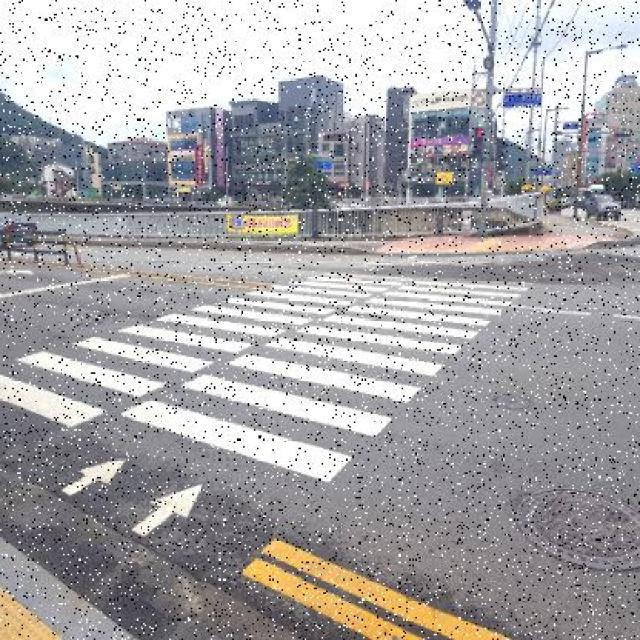intact_crosswalk: (119, 277, 530, 474), (0, 272, 408, 427)
